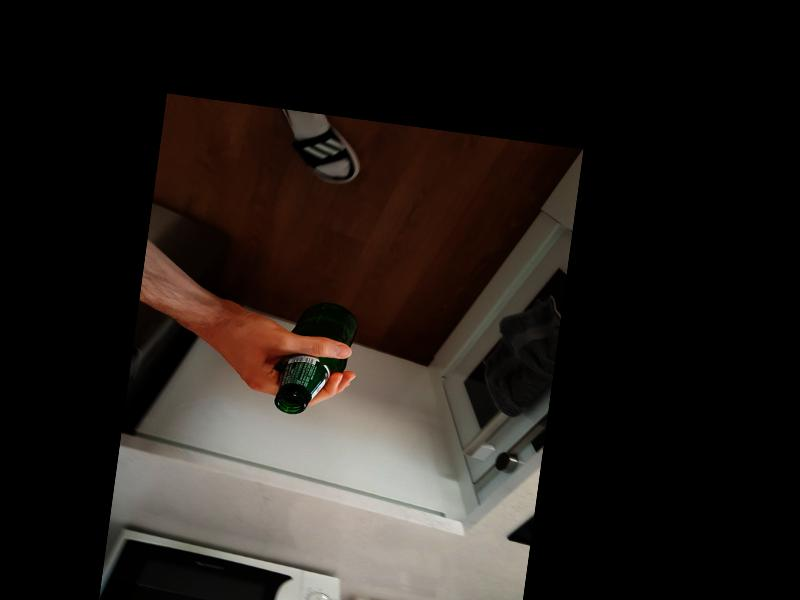Beer: (273, 296, 360, 419)
